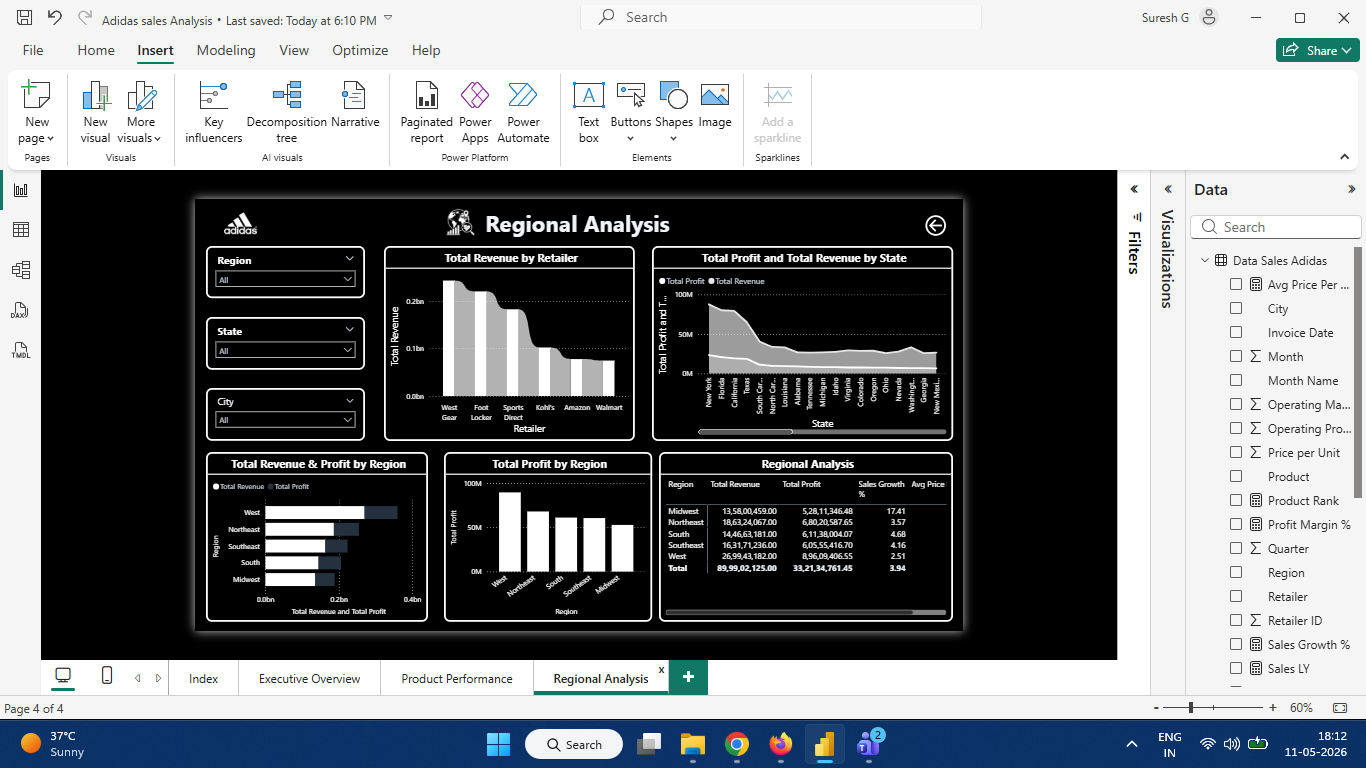

The page's visual inventory and layout, read from the dashboard file:
{"tool":"powerbi","page":{"name":"Regional Analysis","canvas":[1280,720],"ordinal":3},"visuals":[{"type":"textbox","box":[185,10,756.7,68.3],"z":0},{"type":"image","box":[315,6.7,123.3,68.3],"z":2},{"type":"barChart","title":"Total Revenue & Profit by Region","fields":{"Y":["Data Sales Adidas.Total Revenue","Data Sales Adidas.Total Profit"],"Category":["Data Sales Adidas.Region"]},"box":[18.3,421.7,370,283.3],"z":3},{"type":"clusteredColumnChart","fields":{"Y":["Data Sales Adidas.Total Profit"],"Category":["Data Sales Adidas.Region"]},"box":[415,421.7,346.7,283.3],"z":4},{"type":"stackedAreaChart","fields":{"Category":["Data Sales Adidas.State"],"Y":["Data Sales Adidas.Total Profit","Data Sales Adidas.Total Revenue"]},"box":[761.7,78.3,501.7,325],"z":5},{"type":"ribbonChart","fields":{"Y":["Data Sales Adidas.Total Revenue"],"Category":["Data Sales Adidas.Retailer"]},"box":[315,78.3,418.3,325],"z":6},{"type":"pivotTable","title":"Regional Analysis","fields":{"Rows":["Data Sales Adidas.Region"],"Values":["Data Sales Adidas.Total Revenue","Data Sales Adidas.Total Profit","Data Sales Adidas.Sales Growth %","Data Sales Adidas.Avg Price Per Unit"]},"box":[773.3,421.7,490,283.3],"z":7},{"type":"slicer","fields":{"Values":["Data Sales Adidas.Region"]},"box":[18.3,78.3,265,86.7],"z":8},{"type":"slicer","fields":{"Values":["Data Sales Adidas.State"]},"box":[18.3,196.7,265,88.3],"z":9},{"type":"slicer","fields":{"Values":["Data Sales Adidas.City"]},"box":[18.3,315,265,88.3],"z":10},{"type":"actionButton","box":[1205,21.7,58.3,45],"z":11},{"type":"image","box":[18.3,16.7,113.3,50],"z":12}]}

Visuals, with their boxes on the page's 1280x720 design canvas (x1, y1, x2, y2). These are canvas units, not pixel positions in the 1366x768 screenshot, which may show the page scaled, cropped or inside an application window:
textbox: <region>185, 10, 942, 78</region>
image: <region>315, 7, 438, 75</region>
"Total Revenue & Profit by Region" barChart: <region>18, 422, 388, 705</region>
clusteredColumnChart - Data Sales Adidas.Total Profit x Data Sales Adidas.Region: <region>415, 422, 762, 705</region>
stackedAreaChart - Data Sales Adidas.State x Data Sales Adidas.Total Profit: <region>762, 78, 1263, 403</region>
ribbonChart - Data Sales Adidas.Total Revenue x Data Sales Adidas.Retailer: <region>315, 78, 733, 403</region>
"Regional Analysis" pivotTable: <region>773, 422, 1263, 705</region>
slicer - Data Sales Adidas.Region: <region>18, 78, 283, 165</region>
slicer - Data Sales Adidas.State: <region>18, 197, 283, 285</region>
slicer - Data Sales Adidas.City: <region>18, 315, 283, 403</region>
actionButton: <region>1205, 22, 1263, 67</region>
image: <region>18, 17, 132, 67</region>
